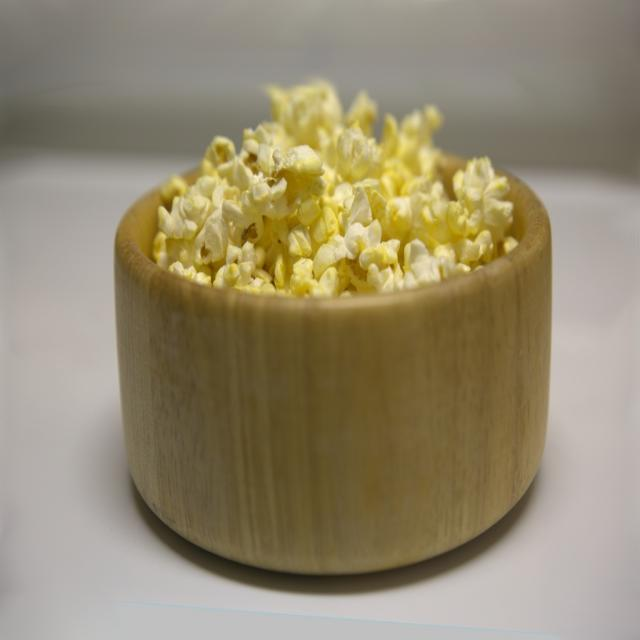Popcorn: (152, 77, 514, 291)
